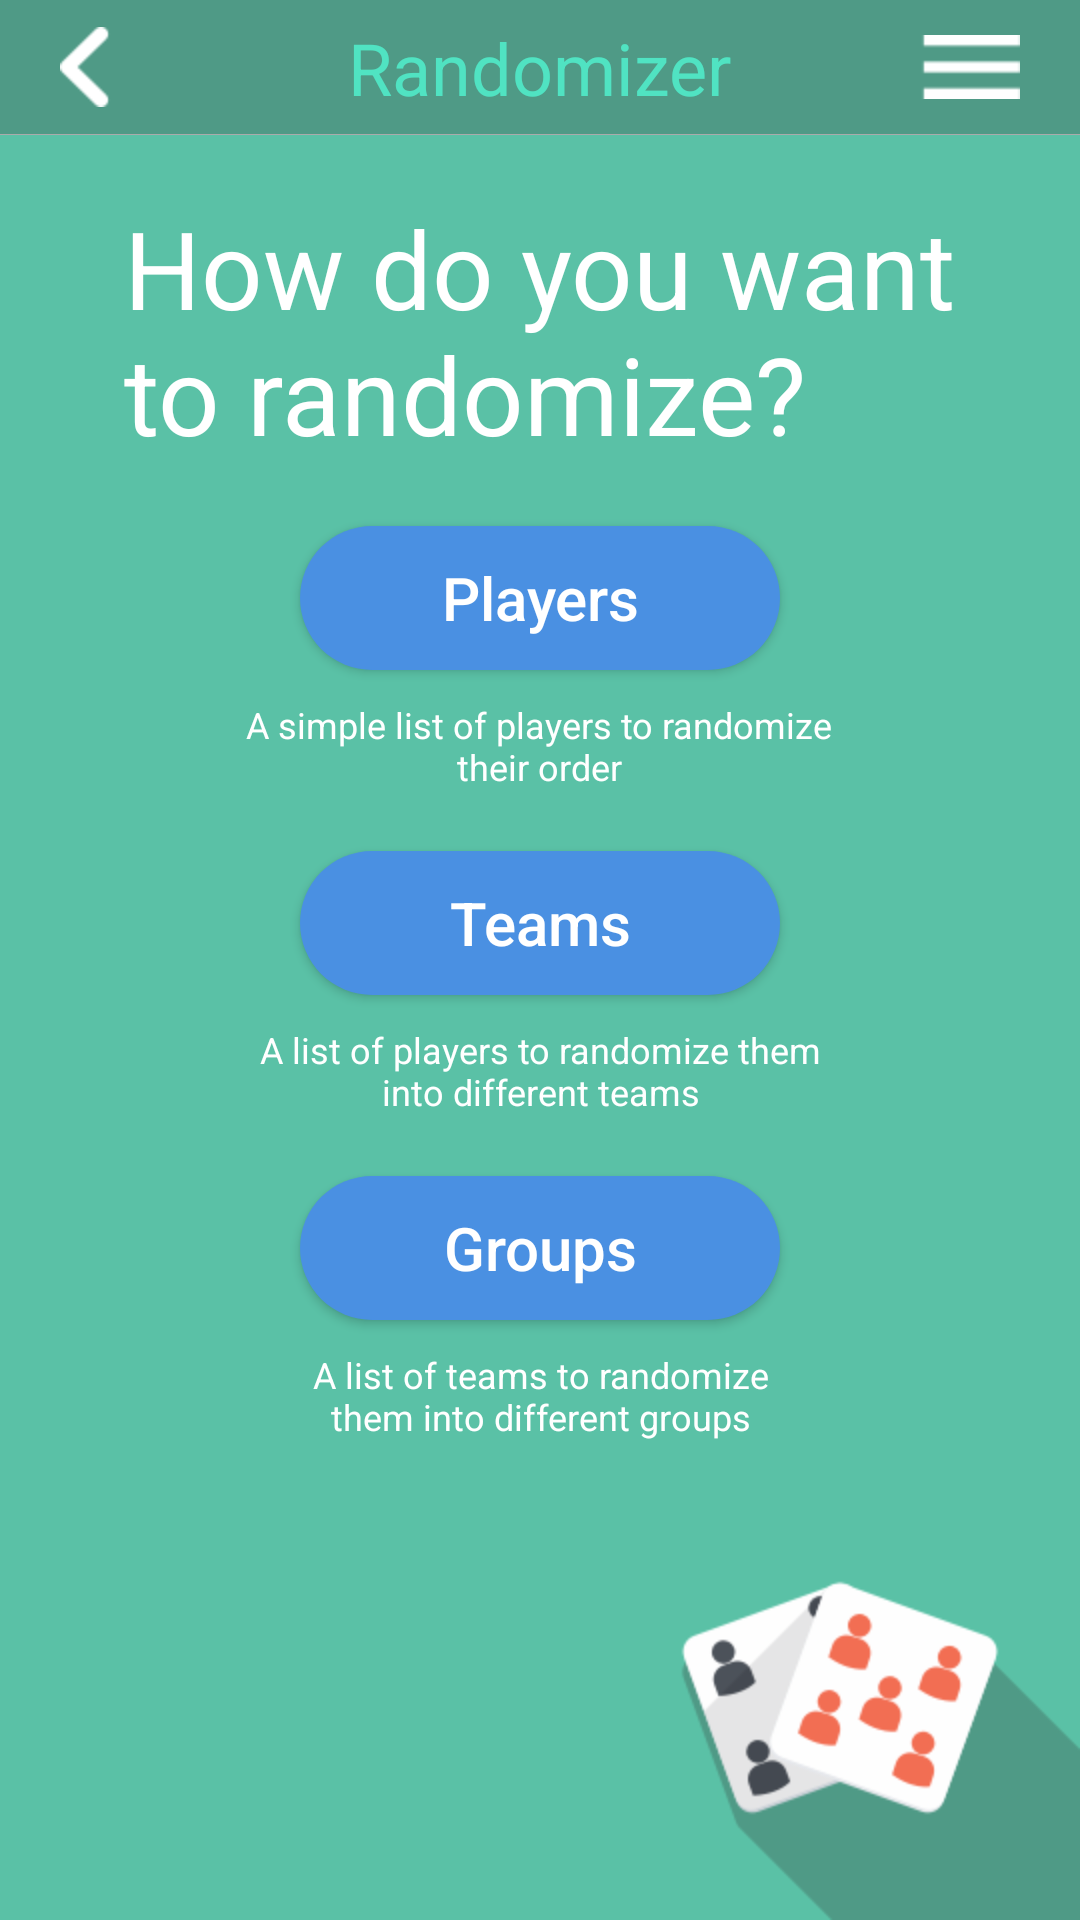

Where to tap for icons on this 1080×1920 app screen, as (x=x, y=y):
back: (x=84, y=67)
menu: (x=971, y=67)
